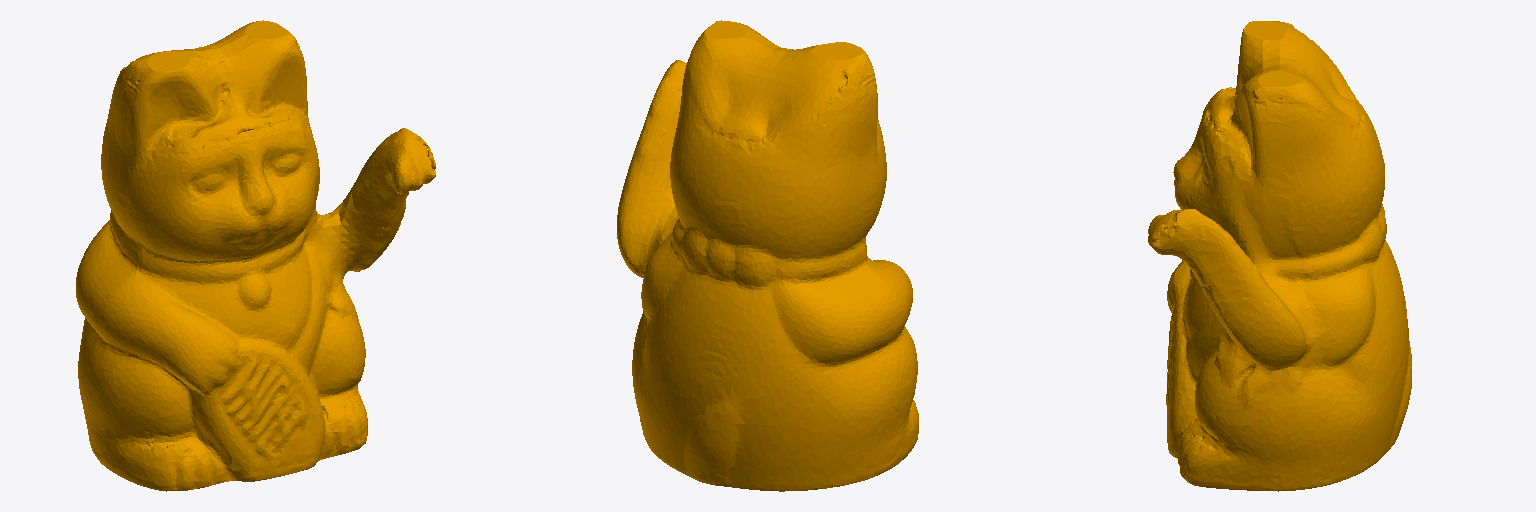
URDF robot description (313444):
<?xml version='1.0'?>

<robot name="313444">
    <static>false</static>
    <link name="link">
        <inertial>
            <mass value="0.10398716274132623"/>
            <inertia ixx="9.625483331224731e-05" ixy="1.3164914394351642e-06" ixz="3.418099364264285e-07"
                     iyy="0.00010566186990982227" iyz="-1.1577885791834996e-07" izz="4.6711220428041224e-05"/>
        </inertial>
        <collision name="collision">
            <geometry>
                <mesh filename="package://miscnet/train/313444/collision_model_vhacd.obj"/>
            </geometry>
        </collision>
        <visual name="visual">
            <geometry>
                <mesh filename="package://miscnet/train/313444/visual_model.obj"/>
            </geometry>
        </visual>
    </link>
</robot>

--- Facts derived from the render (not from the file) ---
The picture shows the robot from 3 angles, left to right: view 1: azimuth 30°, elevation 25°; view 2: azimuth 150°, elevation 25°; view 3: azimuth 270°, elevation 25°; orthographic projection.
Robot: 313444 — 1 links, 0 joints (none); root link link; default pose: all joints at 0.
Visible links, largest first — view 1: link; view 2: link; view 3: link.
Boxes of the visible links, x1,y1,x2,y2 form: link: [76, 20, 435, 491]; link: [617, 20, 918, 491]; link: [1148, 21, 1411, 491].
Bounding box of the posed robot: 0.0792 × 0.0659 × 0.1045 m (x, y, z).
1 mesh visuals loaded from 1 distinct referenced files (1 OBJ).
